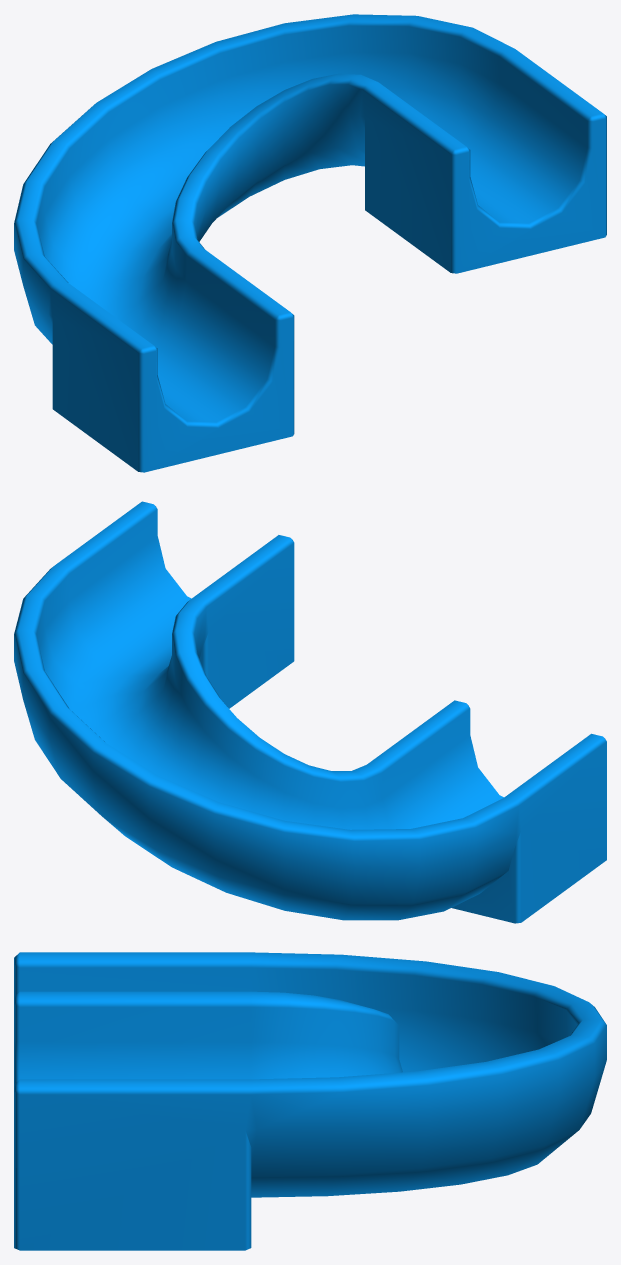
File: Track Ramp U 3x3.fbx
The picture shows the model from 3 angles, top to bottom: view 1: azimuth 30°, elevation 25°; view 2: azimuth 150°, elevation 25°; view 3: azimuth 270°, elevation 25°; orthographic projection. The views are drawn at different scales.
Parts seen in each view (by area): view 1: Track Ramp U 3x3; view 2: Track Ramp U 3x3; view 3: Track Ramp U 3x3.
Part boxes in pixels (x1,y1,x2,y2): Track Ramp U 3x3: [14, 14, 606, 472]; Track Ramp U 3x3: [14, 501, 606, 923]; Track Ramp U 3x3: [14, 952, 606, 1250].
Bounding box in the file's own units: 300 × 150 × 250.
